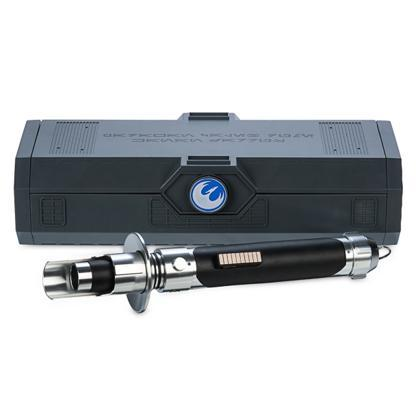lightsaber: (41, 232, 394, 315)
